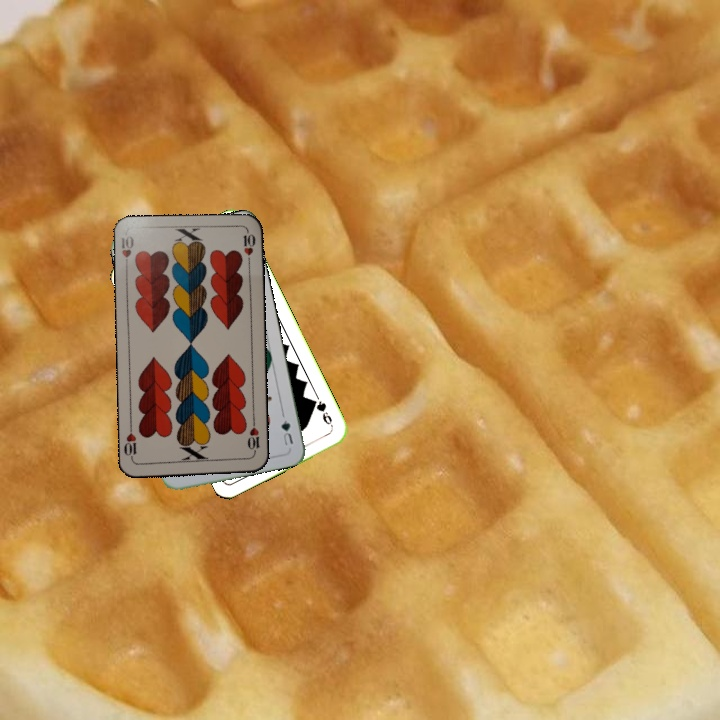G9: (308, 396, 336, 430)
GU: (277, 410, 296, 448)
H10: (117, 232, 137, 272), (243, 417, 262, 457)
